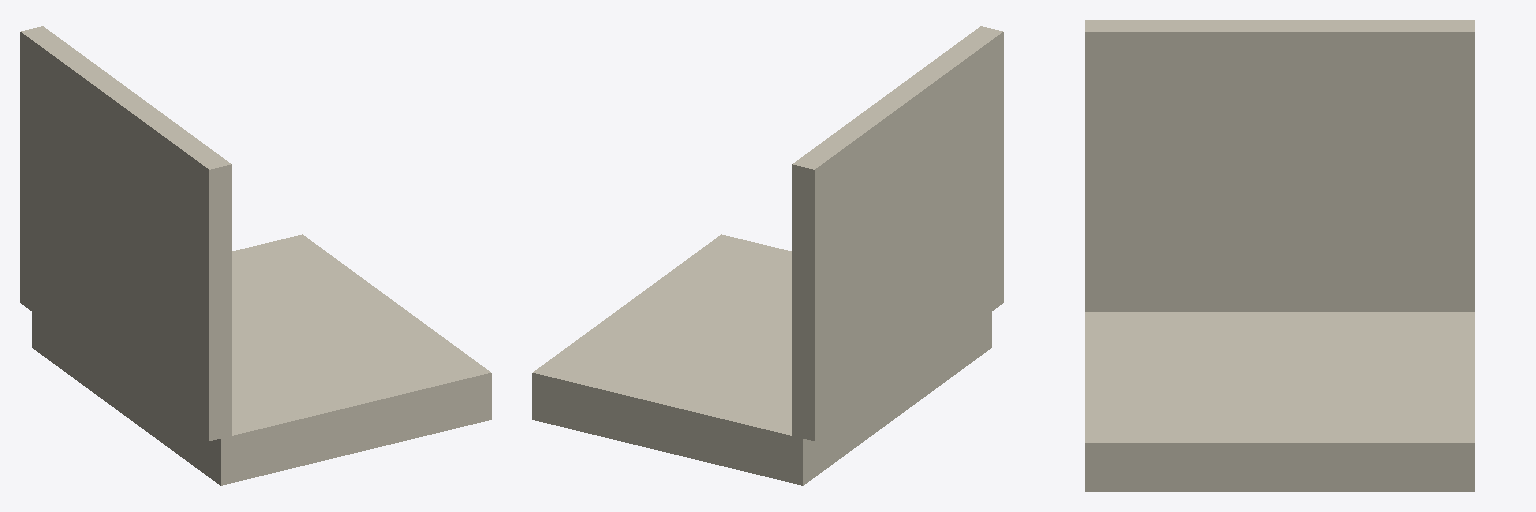
URDF robot description (laptop):
<?xml version="1.0"?>
<robot name="laptop">
  <link name="base_link">
    <visual>
      <origin xyz="0 0 0" rpy="0 0 0"/>
      <geometry>
        <box size="0.24 0.29 0.04"/>
      </geometry>
      <material name="beige">
        <color rgba="0.82 0.80 0.74 1.0"/>
      </material>
    </visual>
    <collision>
      <origin xyz="0 0 0" rpy="0 0 0"/>
      <geometry>
        <box size="0.24 0.29 0.04"/>
      </geometry>
    </collision>
    <inertial>
      <mass value="2.0"/>
      <origin xyz="0 0 0" rpy="0 0 0"/>
      <inertia ixx="0.01428" ixy="0" ixz="0" iyy="0.00987" iyz="0" izz="0.02361"/>
    </inertial>
  </link>

  <link name="screen_link">
    <visual>
      <origin xyz="0 0 0.115" rpy="0 0 0"/>
      <geometry>
        <box size="0.02 0.29 0.23"/>
      </geometry>
      <material name="beige">
        <color rgba="0.82 0.80 0.74 1.0"/>
      </material>
    </visual>
    <collision>
      <origin xyz="0 0 0.115" rpy="0 0 0"/>
      <geometry>
        <box size="0.02 0.29 0.23"/>
      </geometry>
    </collision>
    <inertial>
      <mass value="0.8"/>
      <origin xyz="0 0 0.115" rpy="0 0 0"/>
      <inertia ixx="0.00913" ixy="0" ixz="0" iyy="0.00355" iyz="0" izz="0.00563"/>
    </inertial>
  </link>

  <joint name="lid_hinge" type="revolute">
    <parent link="base_link"/>
    <child link="screen_link"/>
    <origin xyz="-0.12 0 0.02" rpy="0 0 0"/>
    <axis xyz="0 1 0"/>
    <limit lower="0" upper="1.5708" effort="10" velocity="5"/>
    <dynamics damping="0.1" friction="0.1"/>
  </joint>
</robot>

--- Render facts (derived) ---
Views: 3 orthographic renders of the robot side by side, from view 1: azimuth 30°, elevation 25°; view 2: azimuth 150°, elevation 25°; view 3: azimuth 270°, elevation 25°.
Robot: laptop — 2 links, 1 joints (1 revolute); root link base_link; default pose: every joint at zero.
Visible links, largest first — view 1: screen_link, base_link; view 2: screen_link, base_link; view 3: screen_link, base_link.
Link boxes in pixels (box(x1,y1,x2,y2)): screen_link: box(20, 26, 231, 440); base_link: box(32, 234, 491, 485); screen_link: box(792, 26, 1003, 440); base_link: box(532, 234, 991, 485); screen_link: box(1085, 20, 1474, 311); base_link: box(1085, 312, 1474, 491).
Size in the robot's own frame: 0.25 by 0.29 by 0.27 metres.
Geometry: primitives only (box / cylinder / sphere), no mesh files.
